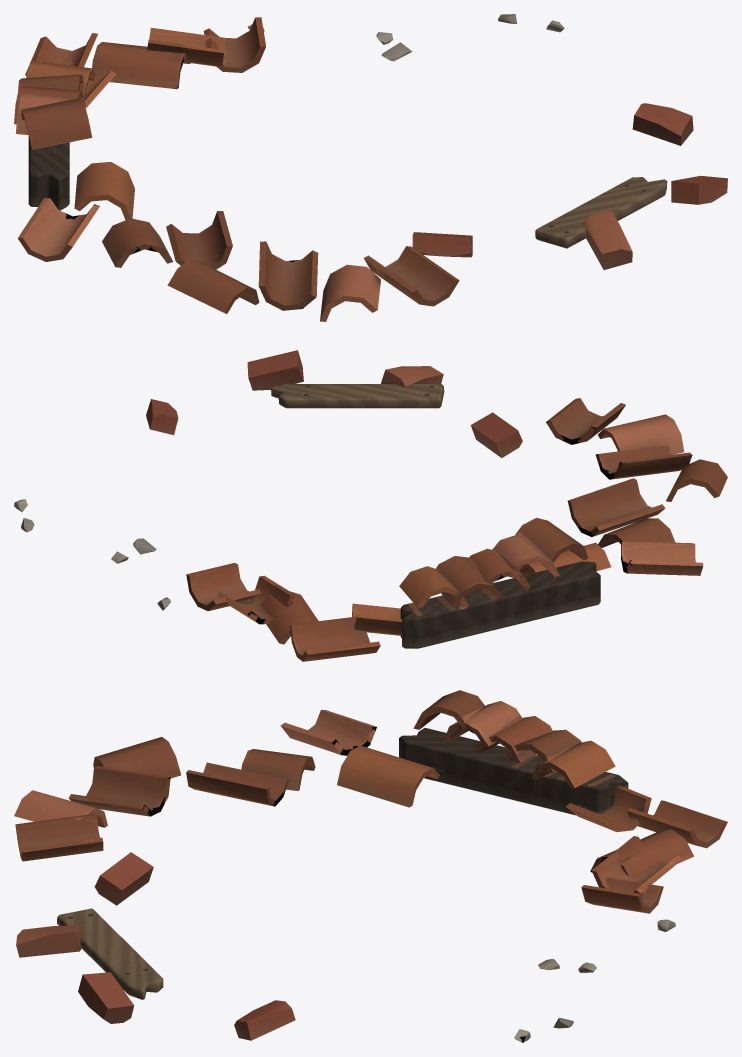
The model's file is rough-town-3.hq.glb.
3 views of the same model, one above another, from view 1: azimuth 30°, elevation 25°; view 2: azimuth 150°, elevation 25°; view 3: azimuth 270°, elevation 25° (orthographic). The views are drawn at different scales.
Visible parts, largest first — view 1: rough-town-3; view 2: rough-town-3; view 3: rough-town-3.
Part boxes in pixels (x1,y1,x2,y2): rough-town-3: (14,14,727,321); rough-town-3: (14,350,727,661); rough-town-3: (14,690,727,1042).
Bounding box in the file's own units: 1.81 × 0.2469 × 1.75.
1 material, 1 textured.
